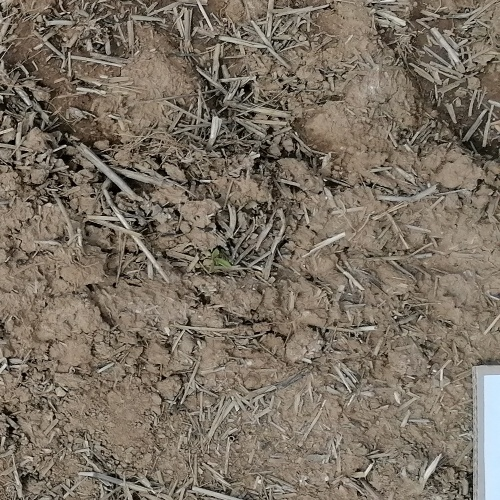beet: (200, 242, 234, 276)
